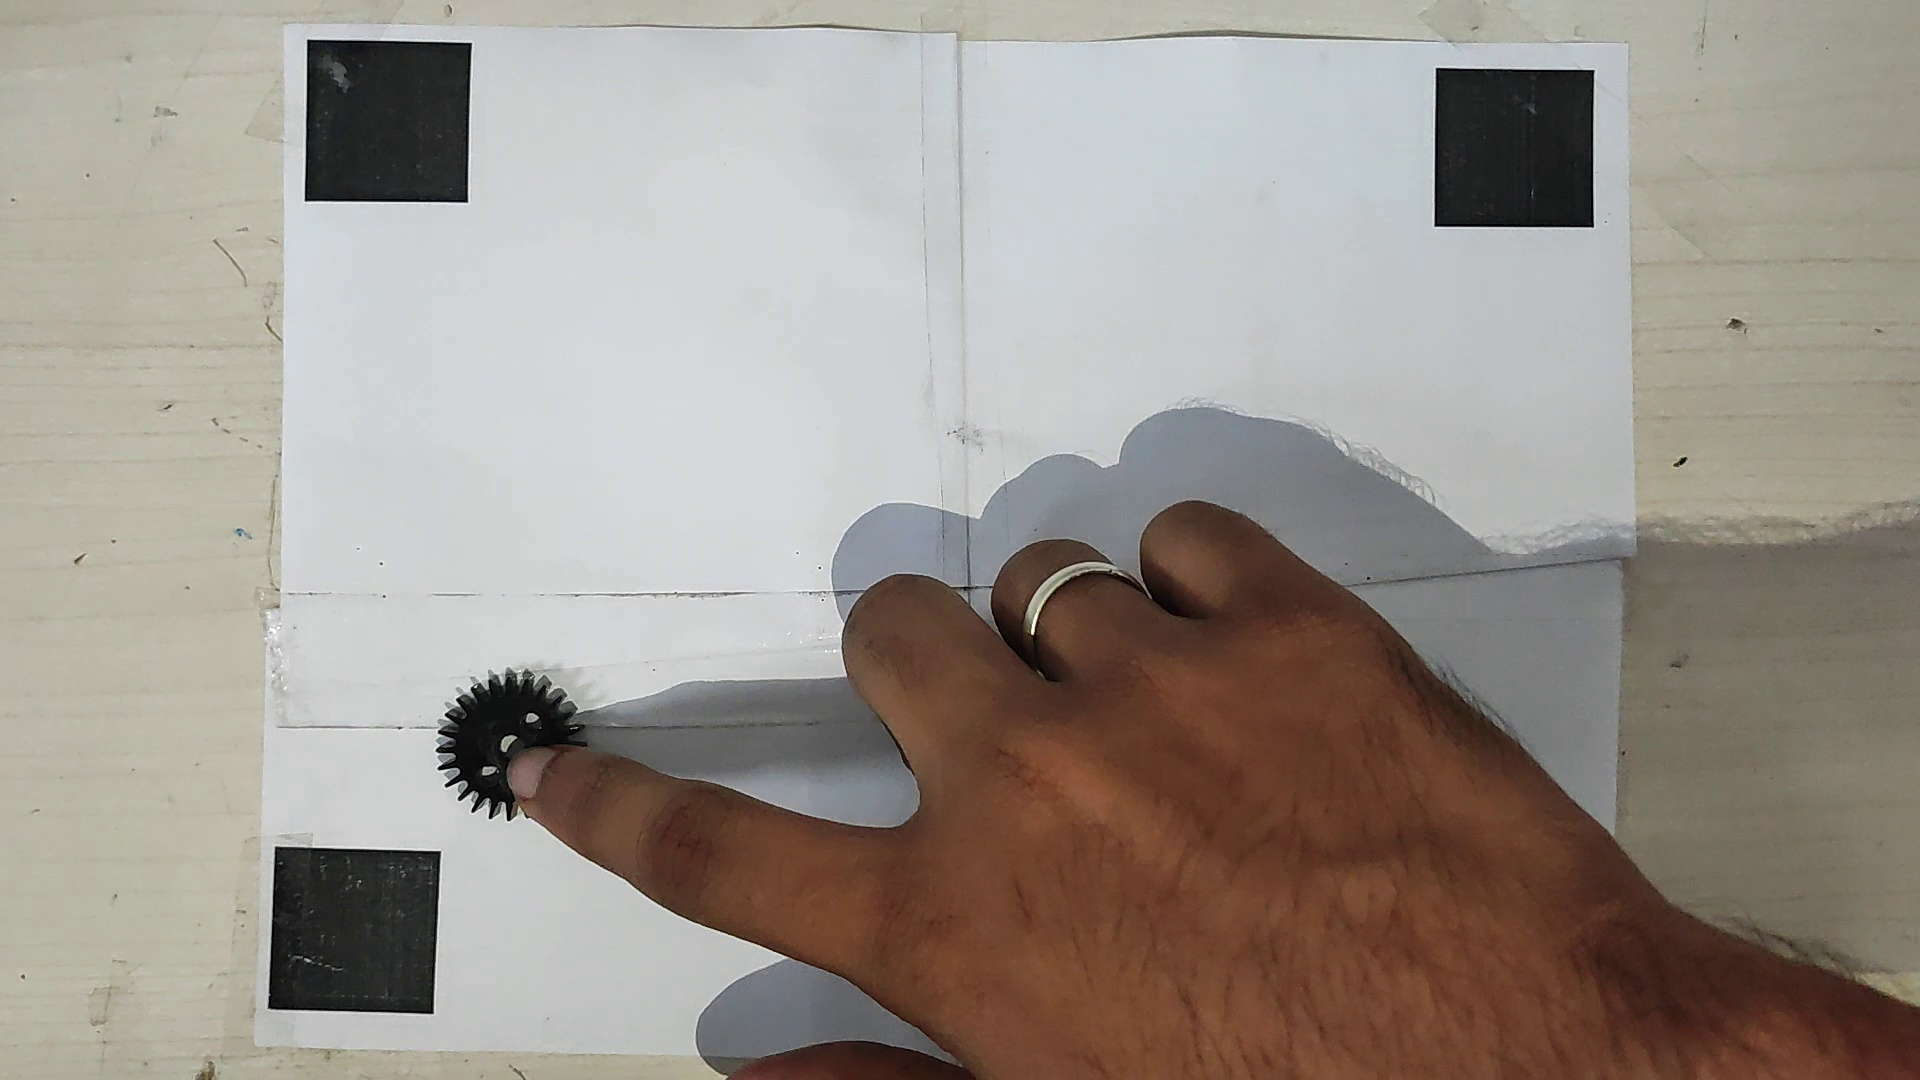Gear: (428, 671, 591, 821)
